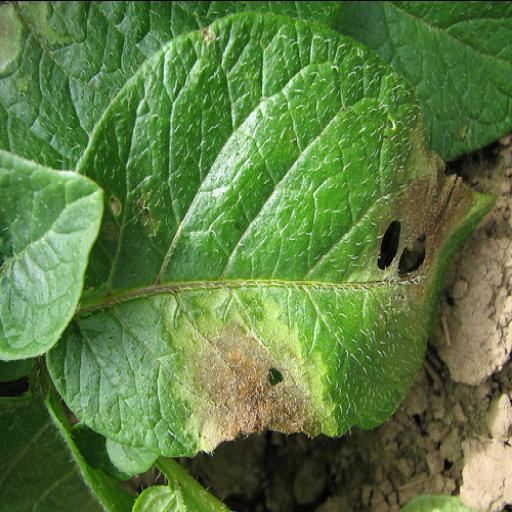disease_tomato: (42, 8, 496, 458)
